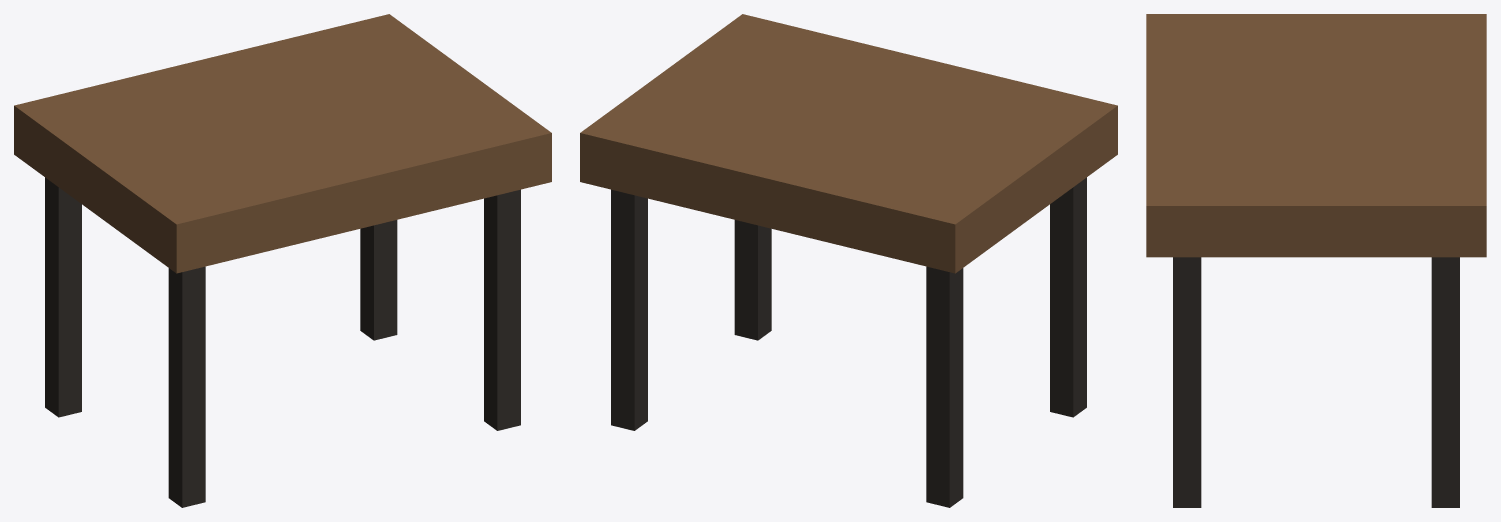
File: justb-km100.glb
The picture shows the model from 3 angles, left to right: view 1: azimuth 30°, elevation 25°; view 2: azimuth 150°, elevation 25°; view 3: azimuth 270°, elevation 25°; orthographic projection. The views are drawn at different scales.
Visible parts, largest first — view 1: table-top, leg-3, leg-4, leg-1, leg-2; view 2: table-top, leg-1, leg-2, leg-3, leg-4; view 3: table-top, leg-2, leg-4.
Boxes of the visible parts, box(x1,y1,x2,y2) form: table-top: box(14, 14, 551, 273); leg-3: box(168, 266, 205, 507); leg-4: box(484, 189, 520, 430); leg-1: box(45, 177, 81, 417); leg-2: box(360, 220, 397, 340); table-top: box(580, 14, 1117, 273); leg-1: box(926, 266, 963, 507); leg-2: box(611, 189, 647, 430); leg-3: box(1050, 177, 1086, 417); leg-4: box(734, 220, 771, 340); table-top: box(1146, 14, 1486, 257); leg-2: box(1431, 257, 1459, 507); leg-4: box(1173, 257, 1201, 507).
Size of the model in its own units: 0.72 by 0.545 by 0.54.
